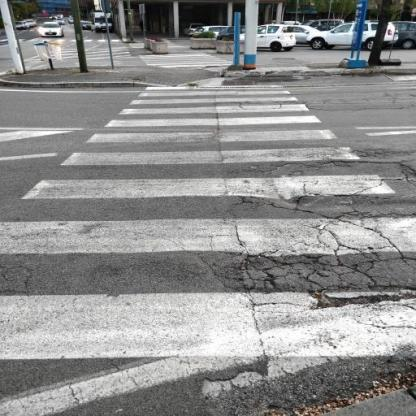crosswalk: (14, 144, 404, 209), (99, 102, 327, 130)
